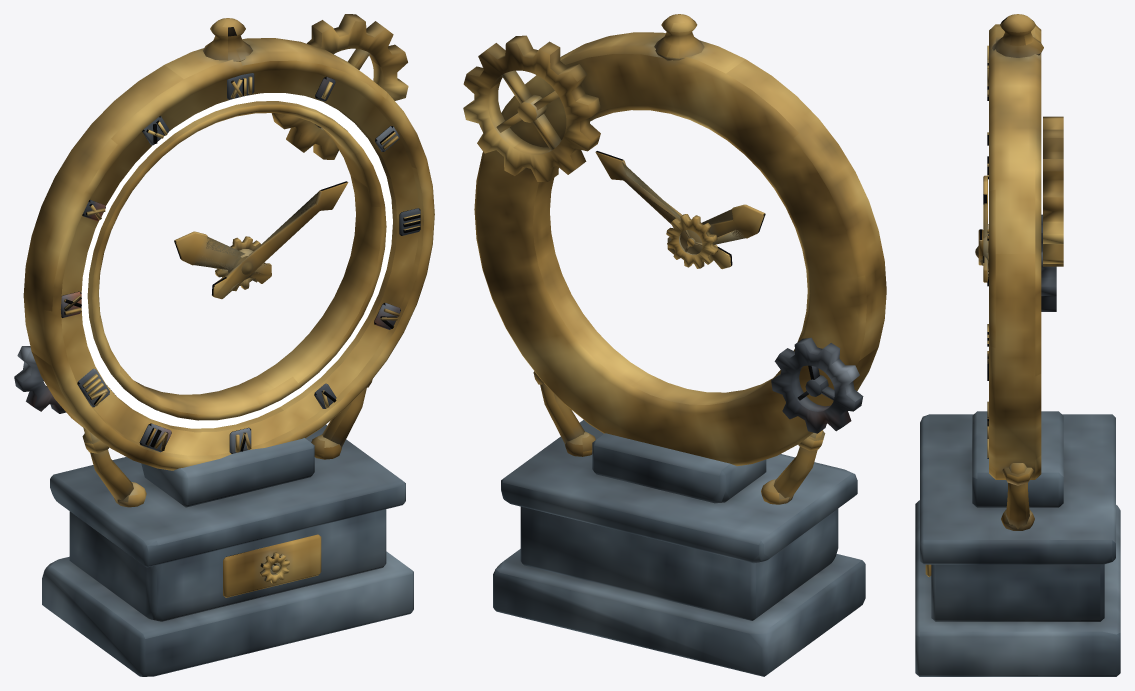
Rendered from Teleporter.fbx.
3 views of the same model, side by side, from view 1: azimuth 30°, elevation 25°; view 2: azimuth 150°, elevation 25°; view 3: azimuth 270°, elevation 25° (orthographic).
Parts seen in each view (by area): view 1: Teleporter; view 2: Teleporter; view 3: Teleporter.
Part boxes in pixels (x1=…): Teleporter: x1=14, y1=14, x2=434, y2=676; Teleporter: x1=463, y1=14, x2=886, y2=676; Teleporter: x1=915, y1=14, x2=1120, y2=676.
Bounding box in the file's own units: 2 × 2.89 × 0.9.
